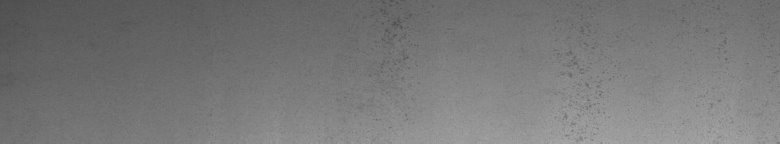ib: (556, 50, 605, 132)
